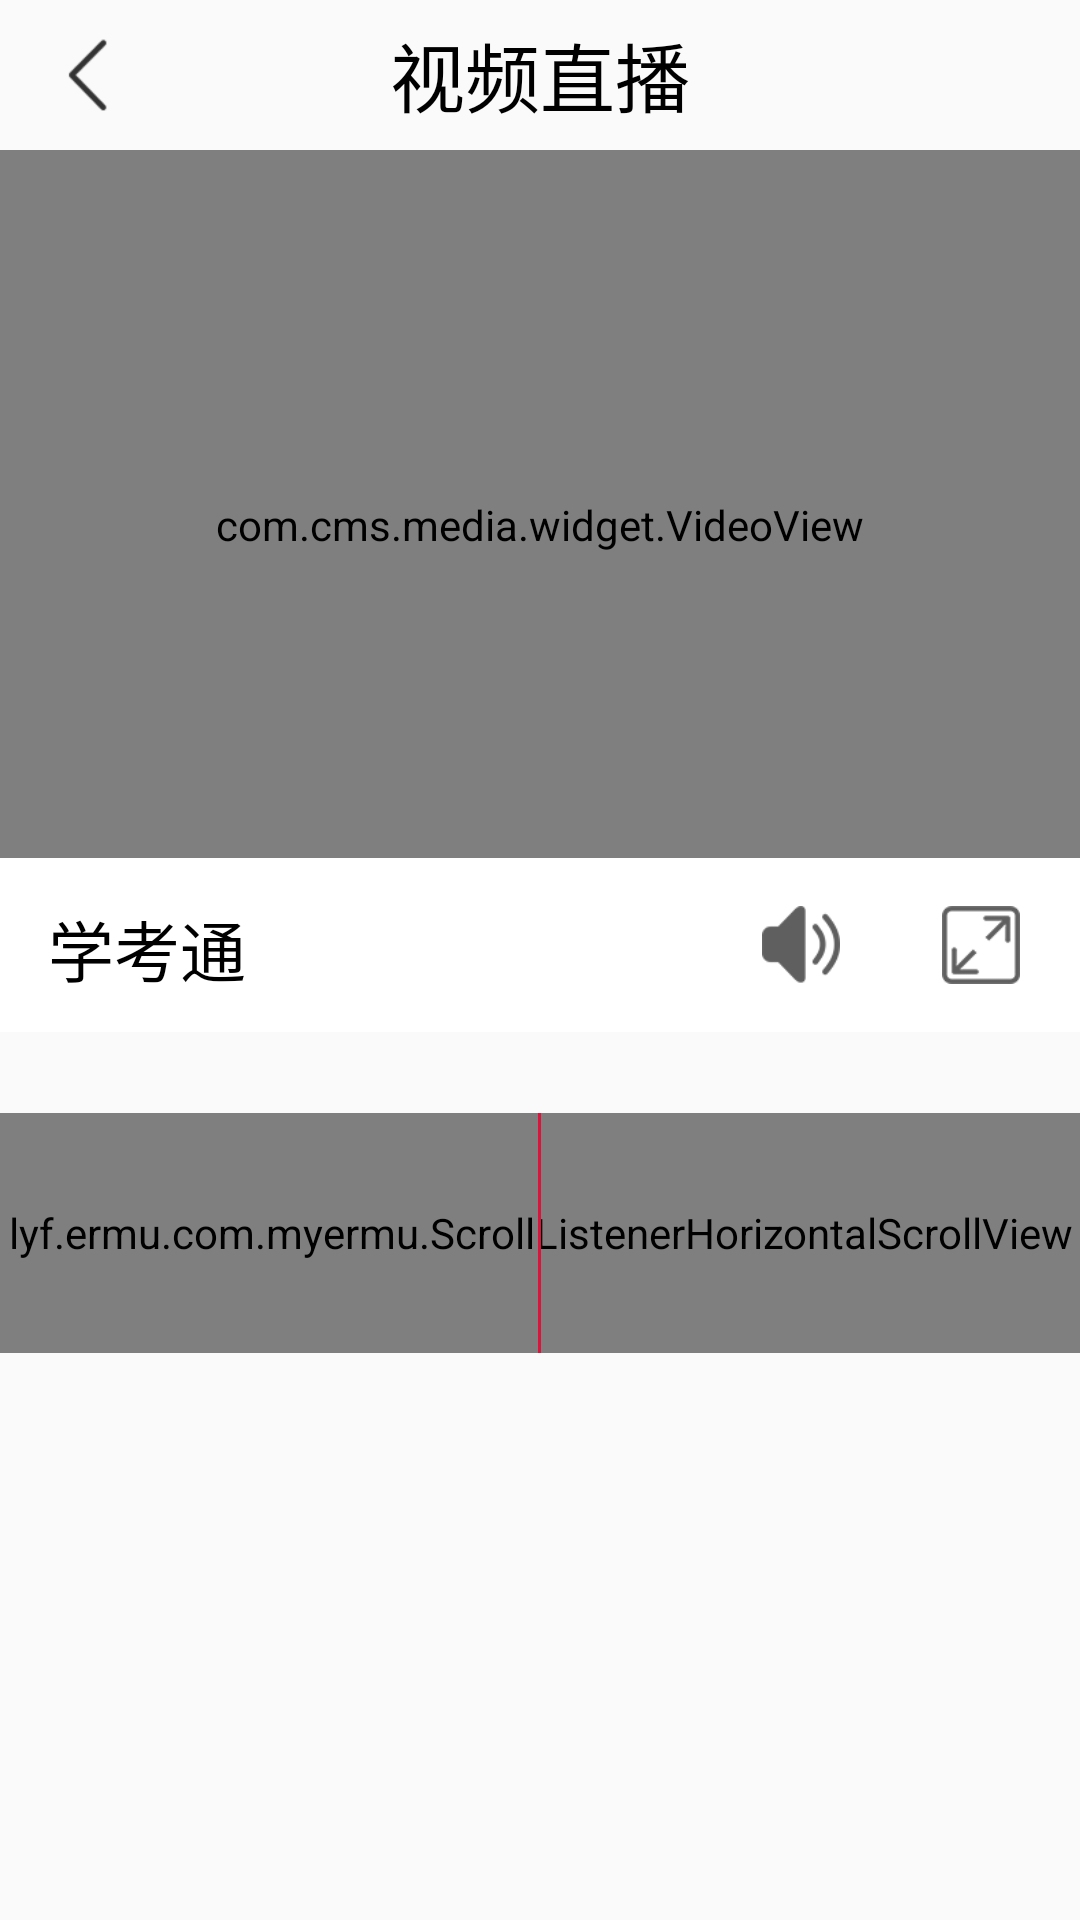

Icons on this 1080 x 1920 Android screen, each with its box as Rect(x1, y1, x2, y2):
back: Rect(69, 39, 107, 111)
full screen: Rect(942, 906, 1020, 984)
voice: Rect(762, 906, 840, 983)
